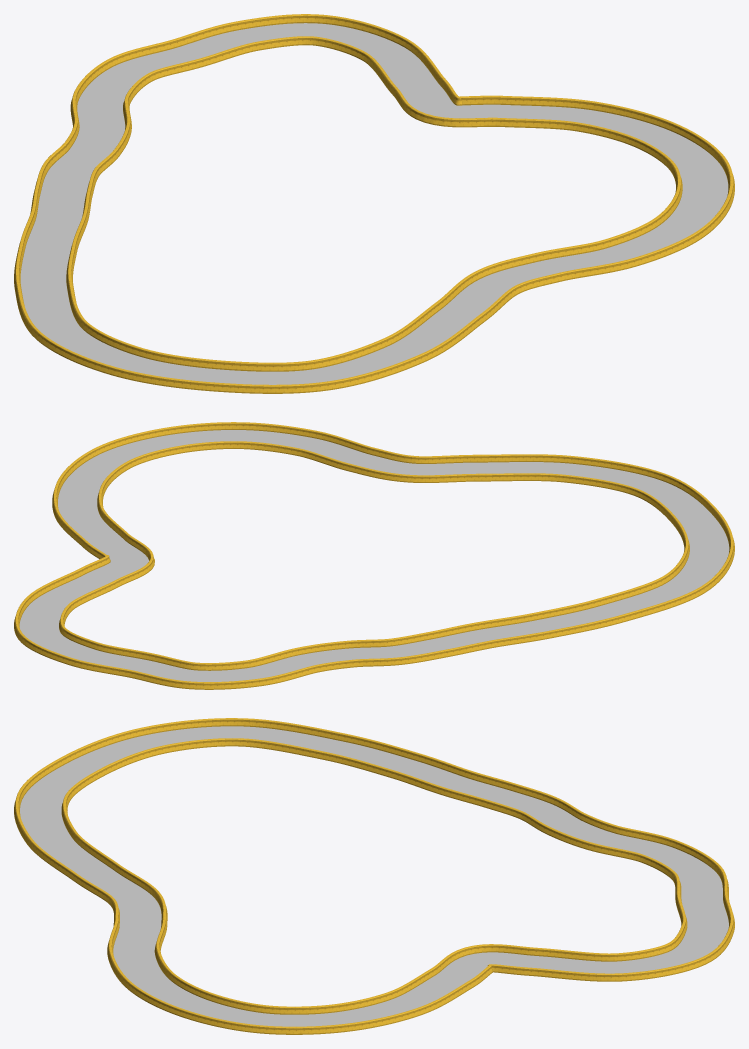
File: Track04.fbx
3 renders of one model, top to bottom at view 1: azimuth 30°, elevation 25°; view 2: azimuth 150°, elevation 25°; view 3: azimuth 270°, elevation 25°, orthographic. The views are drawn at different scales.
Parts seen in each view (by area): view 1: Track4, Barrier4; view 2: Track4, Barrier4; view 3: Track4, Barrier4.
Boxes of the visible parts, left/top/right/bottom form: Track4: left=20, top=23, right=728, bottom=384; Barrier4: left=14, top=14, right=734, bottom=393; Track4: left=19, top=430, right=729, bottom=681; Barrier4: left=14, top=422, right=734, bottom=689; Track4: left=20, top=726, right=728, bottom=1026; Barrier4: left=14, top=718, right=734, bottom=1034.
Bounding box in the file's own units: 61922 × 60645 × 604.
